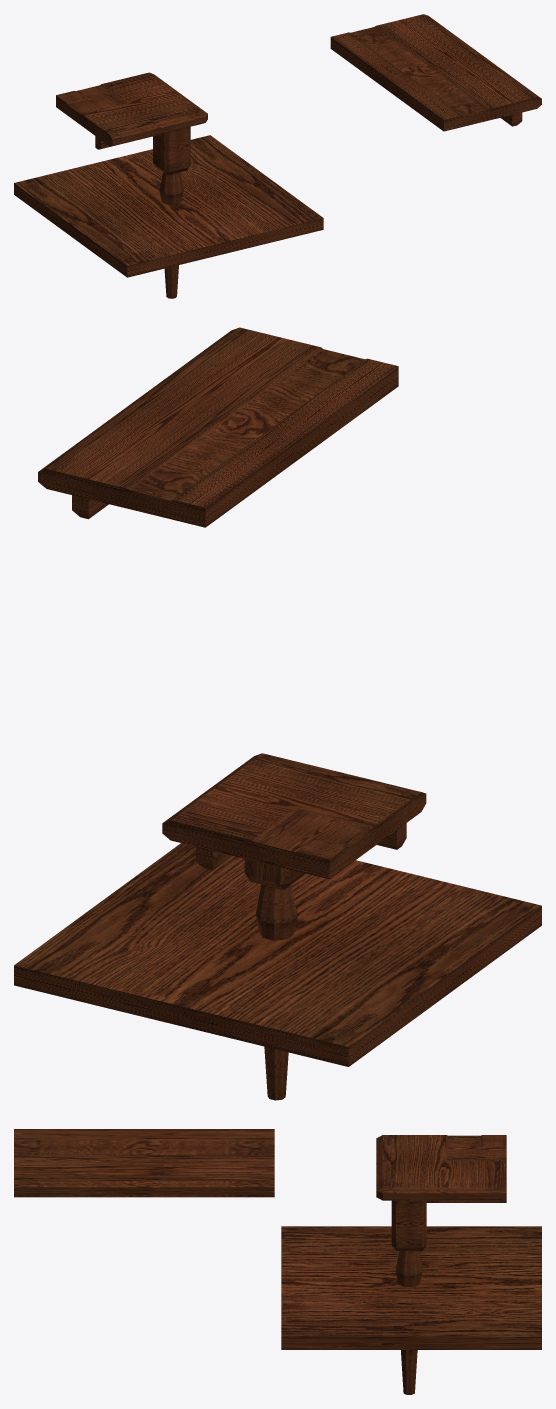
The model's file is table_center.glb.
3 renders of one model, top to bottom at view 1: azimuth 30°, elevation 25°; view 2: azimuth 150°, elevation 25°; view 3: azimuth 270°, elevation 25°, orthographic. The views are drawn at different scales.
Parts seen in each view (by area): view 1: object1.002, object1.005, object1.004; view 2: object1.002, object1.005, object1.004; view 3: object1.002, object1.005, object1.004.
Part boxes in pixels (box(x1,y1,x2,y2)): object1.002: box(14, 135, 323, 277); object1.005: box(330, 14, 541, 131); object1.004: box(56, 72, 207, 298); object1.002: box(14, 843, 541, 1066); object1.005: box(38, 327, 398, 527); object1.004: box(162, 753, 426, 1100); object1.002: box(281, 1226, 541, 1349); object1.005: box(14, 1129, 274, 1197); object1.004: box(376, 1135, 506, 1394).
Size of the model in its own units: 8.89 by 7.91 by 11.84.
Materials: 1 (1 with a texture image).
